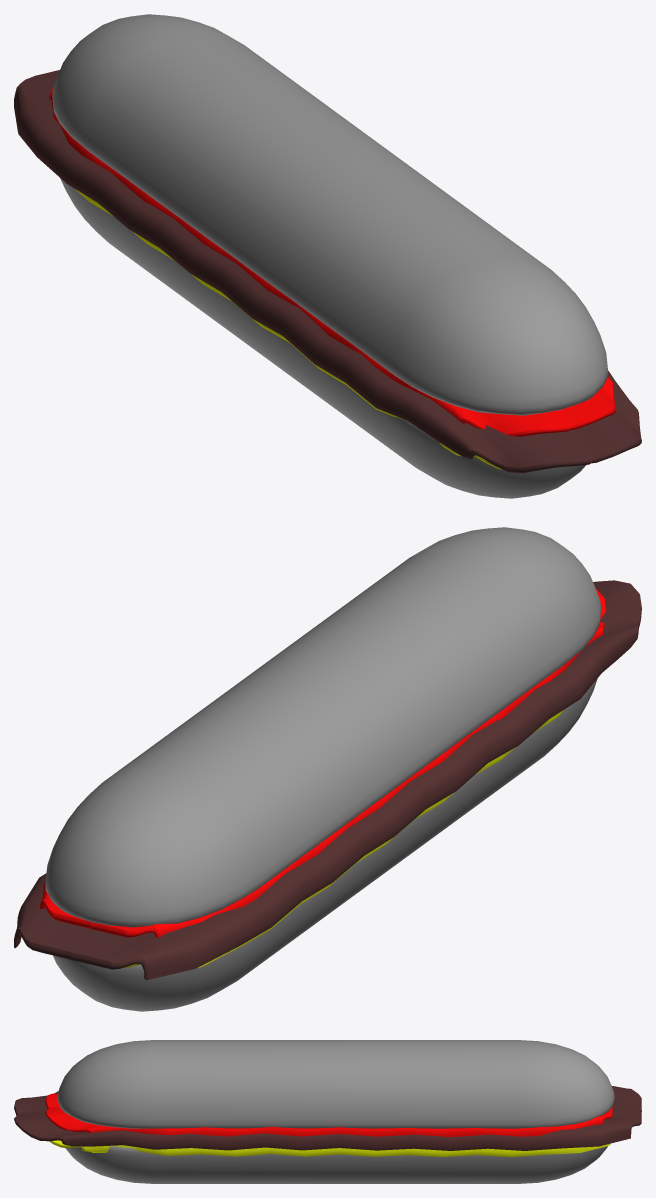
Rendered from Sandwich_Model.FBX.
3 views of the same model, one above another, from view 1: azimuth 30°, elevation 25°; view 2: azimuth 150°, elevation 25°; view 3: azimuth 270°, elevation 25° (orthographic). The views are drawn at different scales.
Visible parts, largest first — view 1: Sandwich_Model; view 2: Sandwich_Model; view 3: Sandwich_Model.
Boxes of the visible parts, box(x1,y1,x2,y2) form: Sandwich_Model: box(14, 14, 641, 498); Sandwich_Model: box(14, 527, 641, 1011); Sandwich_Model: box(14, 1040, 641, 1183).
Size of the model in its own units: 7.22 by 7.26 by 31.76.
